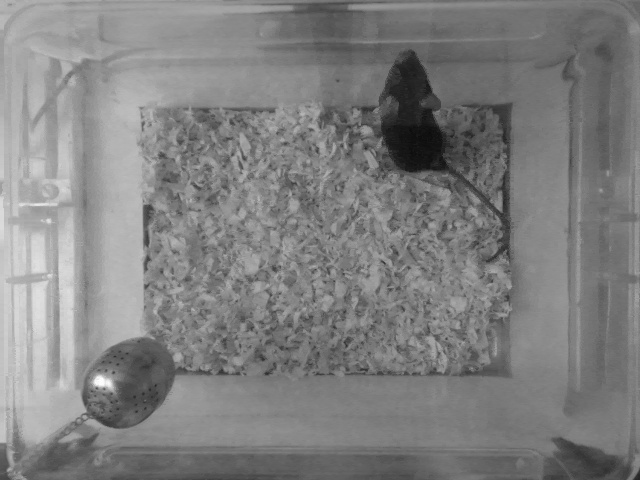mice: (378, 45, 514, 267)
